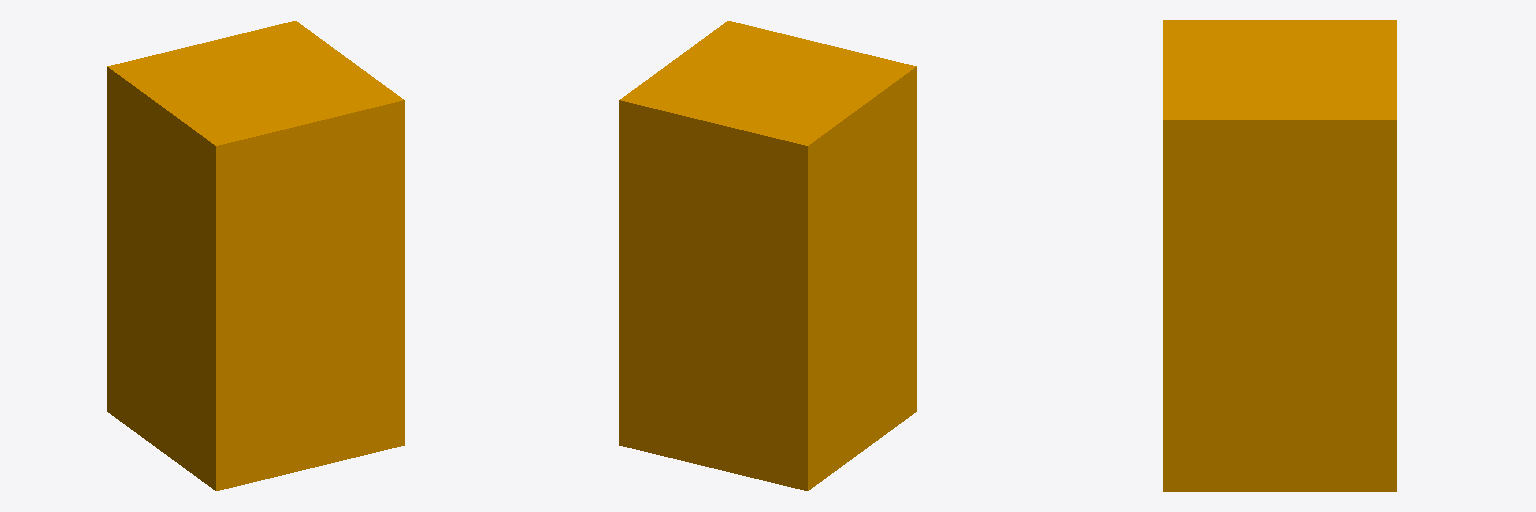
robot.urdf — object:
<?xml version="0.0"?>
	<robot name="object">
		<link name="object">
			<visual>
				<origin xyz="0 0 0"/>
				<geometry>
					<box size="0.4 0.4 0.7"/>
				</geometry>
			</visual>
			<inertial>
				<mass value="11.200"/>
			</inertial>
			<collision>
				<origin xyz="0 0 0"/>
				<geometry>
					<box size="0.4 0.4 0.7"/>
				</geometry>
			</collision>
		</link>

	</robot>

--- Render facts (derived) ---
The picture shows the robot from 3 angles, left to right: view 1: azimuth 30°, elevation 25°; view 2: azimuth 150°, elevation 25°; view 3: azimuth 270°, elevation 25°; orthographic projection.
Robot: object — 1 links, 0 joints (none); root link object; default pose: all joints at 0.
Links seen in each view (by area): view 1: object; view 2: object; view 3: object.
Boxes of the visible links, <box> form: object: <box>107,21,404,490</box>; object: <box>619,21,916,490</box>; object: <box>1163,20,1396,491</box>.
Size in the robot's own frame: 0.4 by 0.4 by 0.7 metres.
Geometry: primitives only (box / cylinder / sphere), no mesh files.